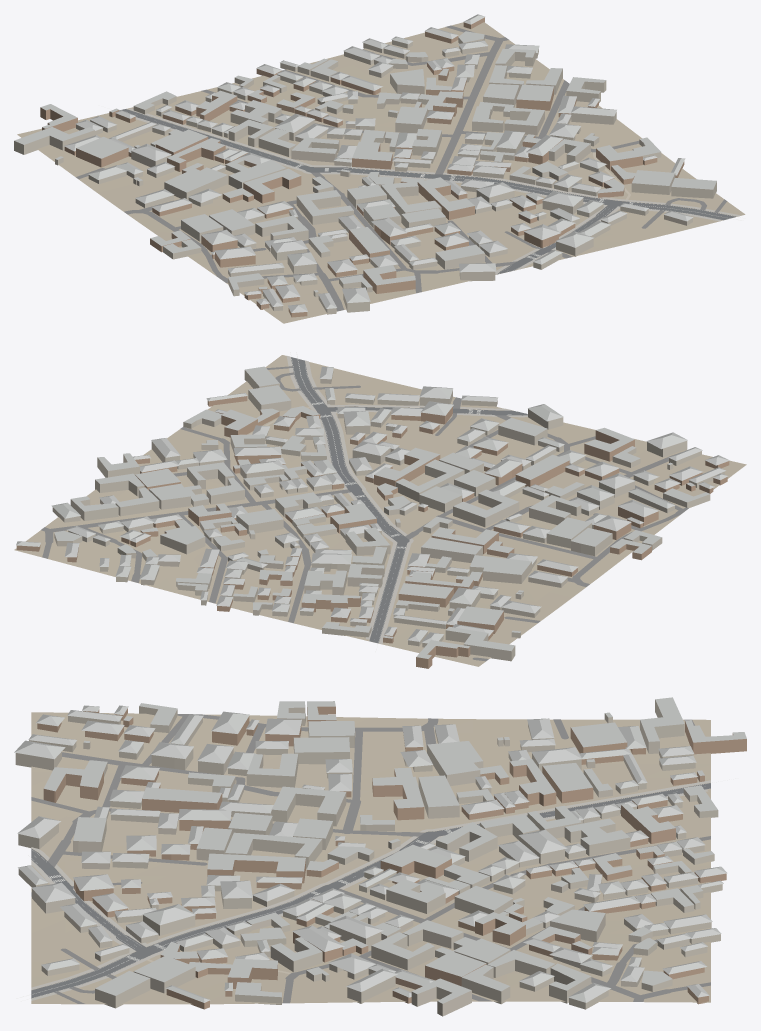
The model's file is bolak_0_5.glb.
3 renders of one model, top to bottom at view 1: azimuth 30°, elevation 25°; view 2: azimuth 150°, elevation 25°; view 3: azimuth 270°, elevation 25°, orthographic. The views are drawn at different scales.
Visible parts, largest first — view 1: Tom_Shifer, Yer_Tuproq-col, Devor_Suvoq-col, Devor_Gisht-col, Yol_Mahalla-col, Yol_Asfalt-col, Trotuar; view 2: Tom_Shifer, Yer_Tuproq-col, Devor_Suvoq-col, Devor_Gisht-col, Yol_Mahalla-col, Yol_Asfalt-col, Trotuar, Yol_Chiziq; view 3: Tom_Shifer, Yer_Tuproq-col, Devor_Suvoq-col, Devor_Gisht-col, Yol_Mahalla-col, Yol_Asfalt-col, Trotuar, Yol_Chiziq.
Part boxes in pixels (x1=…): Tom_Shifer: x1=14, y1=14, x2=716, y2=312; Yer_Tuproq-col: x1=17, y1=22, x2=745, y2=323; Devor_Suvoq-col: x1=14, y1=35, x2=716, y2=314; Devor_Gisht-col: x1=40, y1=17, x2=684, y2=317; Yol_Mahalla-col: x1=76, y1=25, x2=726, y2=311; Yol_Asfalt-col: x1=119, y1=109, x2=736, y2=274; Trotuar: x1=126, y1=108, x2=740, y2=274; Tom_Shifer: x1=16, y1=366, x2=729, y2=658; Yer_Tuproq-col: x1=14, y1=355, x2=746, y2=666; Devor_Suvoq-col: x1=52, y1=370, x2=724, y2=661; Devor_Gisht-col: x1=16, y1=396, x2=729, y2=668; Yol_Mahalla-col: x1=41, y1=366, x2=688, y2=661; Yol_Asfalt-col: x1=291, y1=357, x2=527, y2=643; Trotuar: x1=286, y1=356, x2=527, y2=643; Yol_Chiziq: x1=290, y1=352, x2=527, y2=651; Tom_Shifer: x1=14, y1=697, x2=746, y2=1003; Yer_Tuproq-col: x1=31, y1=712, x2=710, y2=1004; Devor_Suvoq-col: x1=15, y1=699, x2=722, y2=1016; Devor_Gisht-col: x1=37, y1=706, x2=746, y2=1009; Yol_Mahalla-col: x1=31, y1=714, x2=710, y2=1003; Yol_Asfalt-col: x1=31, y1=783, x2=710, y2=998; Trotuar: x1=31, y1=780, x2=710, y2=1000; Yol_Chiziq: x1=16, y1=778, x2=735, y2=1001.
Size of what is drawn, in the model's own units: 435 by 16.5 by 432.
